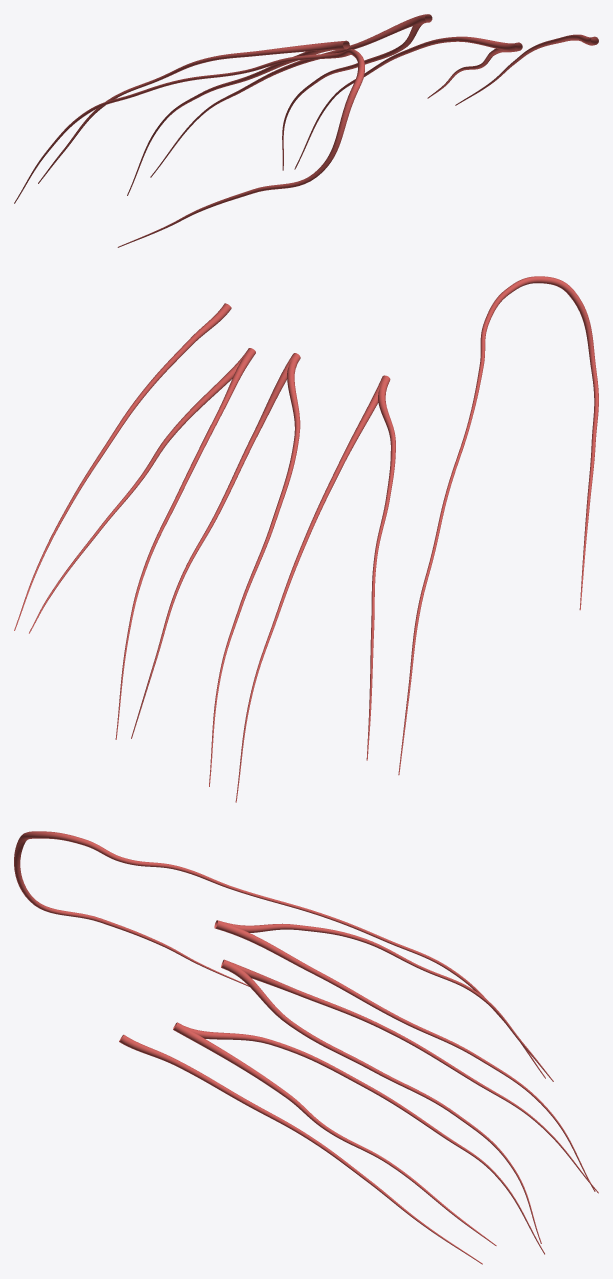
The picture shows the model from 3 angles, top to bottom: view 1: azimuth 30°, elevation 25°; view 2: azimuth 150°, elevation 25°; view 3: azimuth 270°, elevation 25°; orthographic projection. The views are drawn at different scales.
Parts seen in each view (by area): view 1: 右侧指背动脉; view 2: 右侧指背动脉; view 3: 右侧指背动脉.
Boxes of the visible parts, left/top/right/bottom form: 右侧指背动脉: left=14, top=14, right=598, bottom=247; 右侧指背动脉: left=14, top=276, right=598, bottom=802; 右侧指背动脉: left=14, top=831, right=598, bottom=1264.
Bounding box in the file's own units: 0.1516 × 0.1066 × 0.1636.
